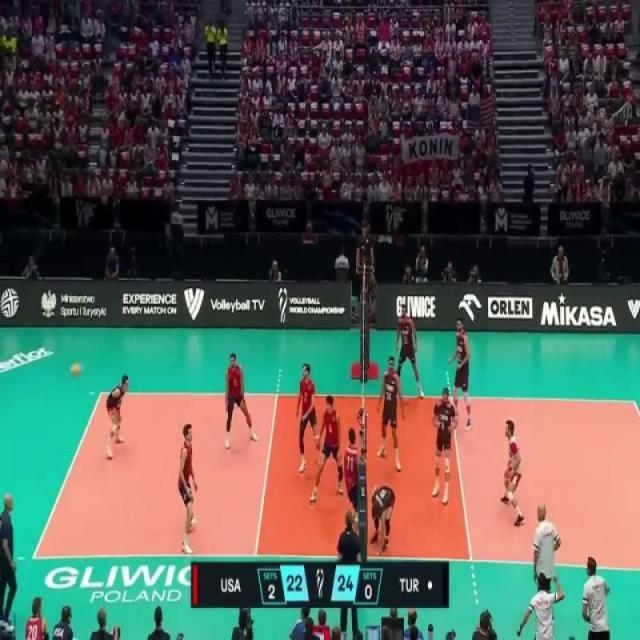volleyball: (67, 359, 84, 381)
